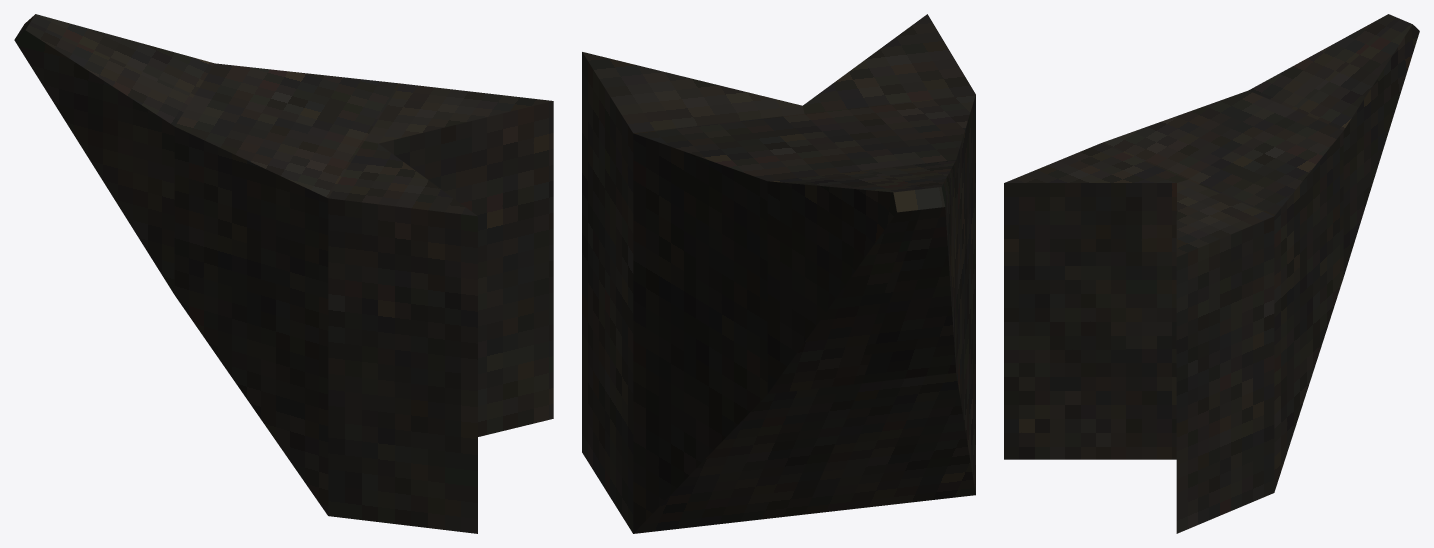
The model's file is upwards_spike_large_diagonal.obj.
3 renders of one model, left to right at view 1: azimuth 30°, elevation 25°; view 2: azimuth 150°, elevation 25°; view 3: azimuth 270°, elevation 25°, orthographic. The views are drawn at different scales.
Visible parts, largest first — view 1: cuboid; view 2: cuboid; view 3: cuboid.
Boxes of the visible parts, left/top/right/bottom form: cuboid: left=14, top=14, right=553, bottom=533; cuboid: left=582, top=14, right=975, bottom=533; cuboid: left=1004, top=14, right=1419, bottom=533.
Bounding box in the file's own units: 1.7 × 1.56 × 1.7.
